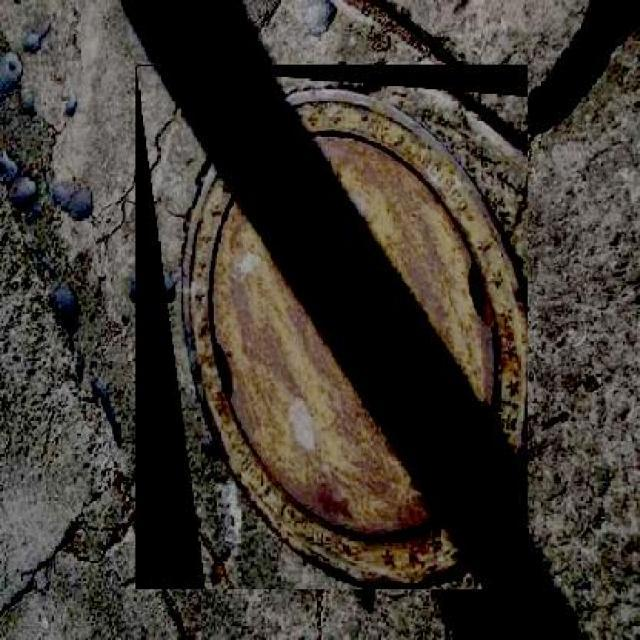Manhole: (135, 65, 528, 590)
